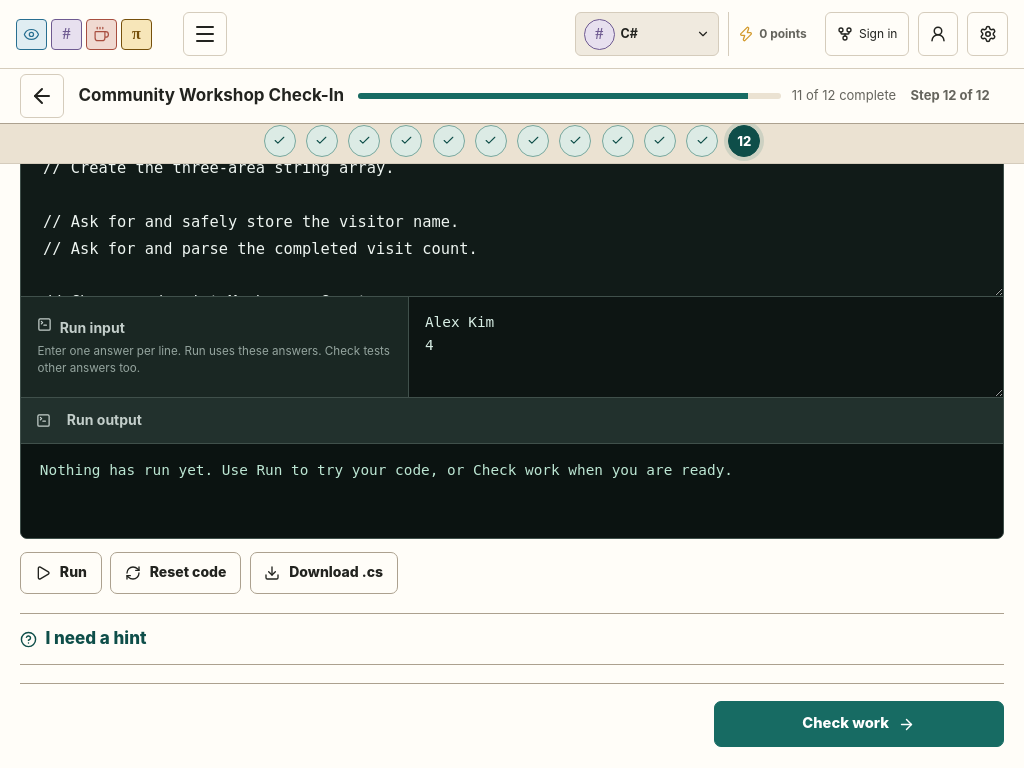
Test case: C# guided project UI › opens the unlocked final deep link in the C# editor and sends Run to the C# runner
(page scrolled)
Check: the button "Download .cs" is shown, box [250,552,398,594]
Check: the text "Run output" is shown, box [67,409,142,432]
Click the button "Run": {"x": 61, "y": 573} [20,552,102,594]
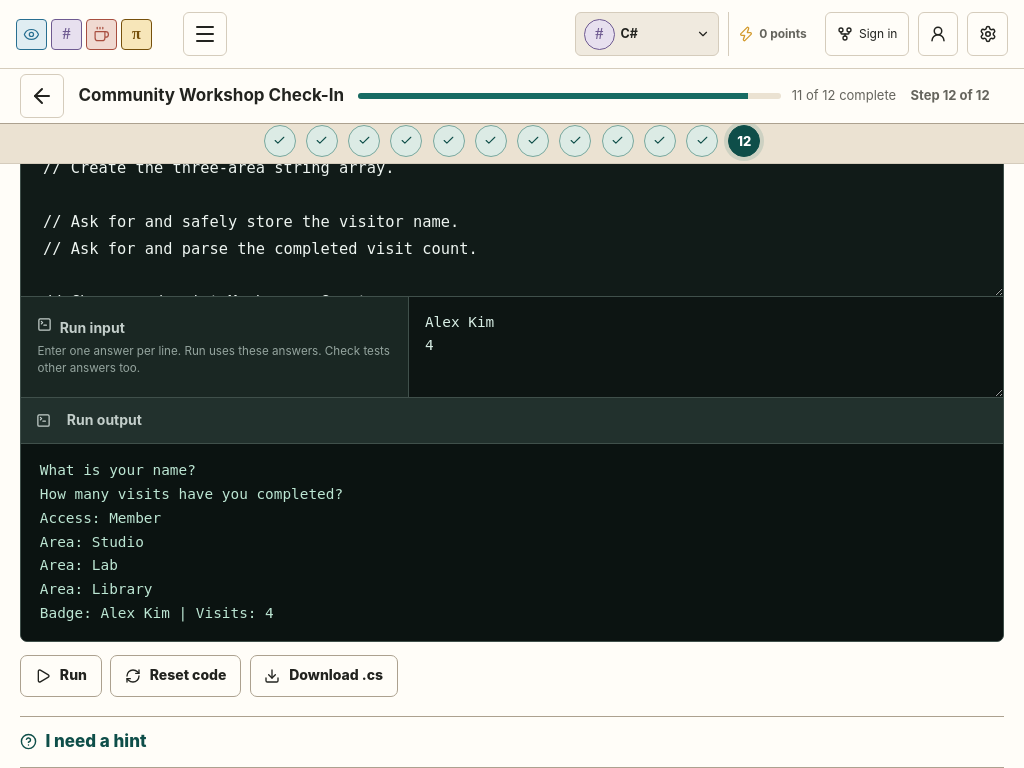
Check: the text "Badge: Alex Kim | Visits: 4" is shown, box [40,462,343,621]
